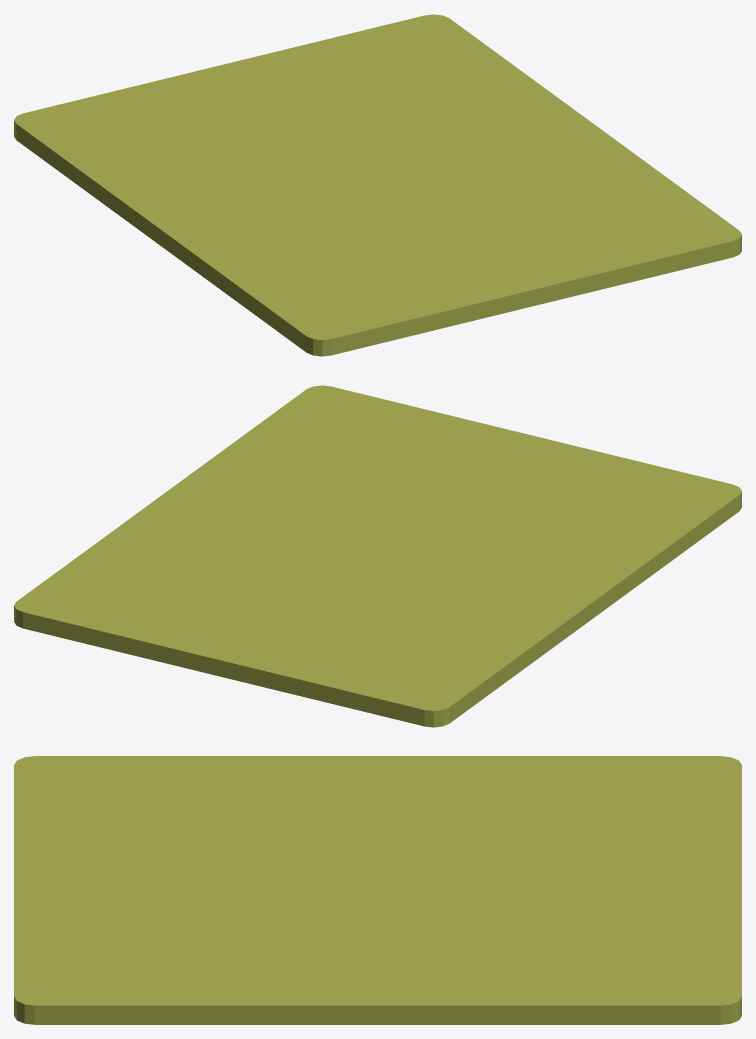
Rendered from grass_top_004.fbx.
The picture shows the model from 3 angles, top to bottom: view 1: azimuth 30°, elevation 25°; view 2: azimuth 150°, elevation 25°; view 3: azimuth 270°, elevation 25°; orthographic projection. The views are drawn at different scales.
Visible parts, largest first — view 1: grass_top.004; view 2: grass_top.004; view 3: grass_top.004.
Part boxes in pixels (<box>): grass_top.004: <box>14,14,741,356</box>; grass_top.004: <box>14,385,741,727</box>; grass_top.004: <box>14,756,741,1024</box>.
Bounding box in the file's own units: 414 × 15 × 510.
